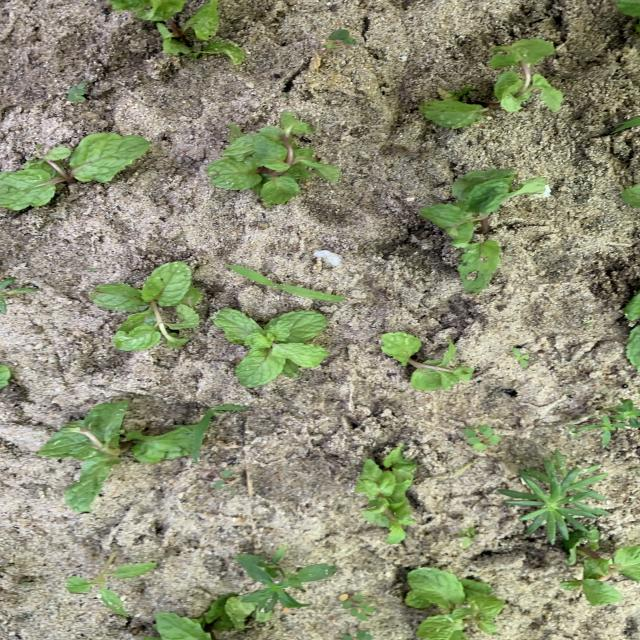crop: (39, 400, 199, 512), (420, 169, 547, 293), (420, 37, 562, 127), (207, 113, 339, 205), (1, 134, 151, 210), (92, 263, 202, 350), (214, 309, 327, 385), (109, 1, 243, 63), (404, 569, 503, 639), (355, 446, 417, 542), (561, 533, 640, 605), (382, 334, 473, 390), (152, 595, 255, 639), (625, 290, 639, 369), (616, 1, 639, 32), (622, 184, 639, 206)
weed: (499, 451, 608, 550), (67, 547, 155, 615), (236, 553, 337, 611), (229, 265, 344, 302), (189, 404, 247, 462), (577, 400, 640, 447), (1, 278, 37, 312), (463, 425, 499, 449), (342, 593, 375, 619), (324, 30, 355, 49), (215, 469, 237, 493), (68, 81, 88, 102), (459, 527, 475, 546), (513, 348, 529, 366)
